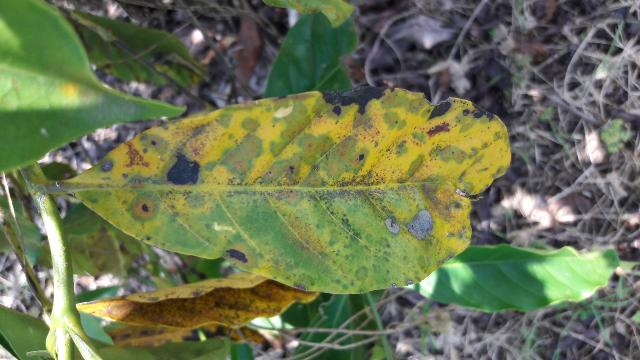rust_level_4: (62, 89, 510, 295)
